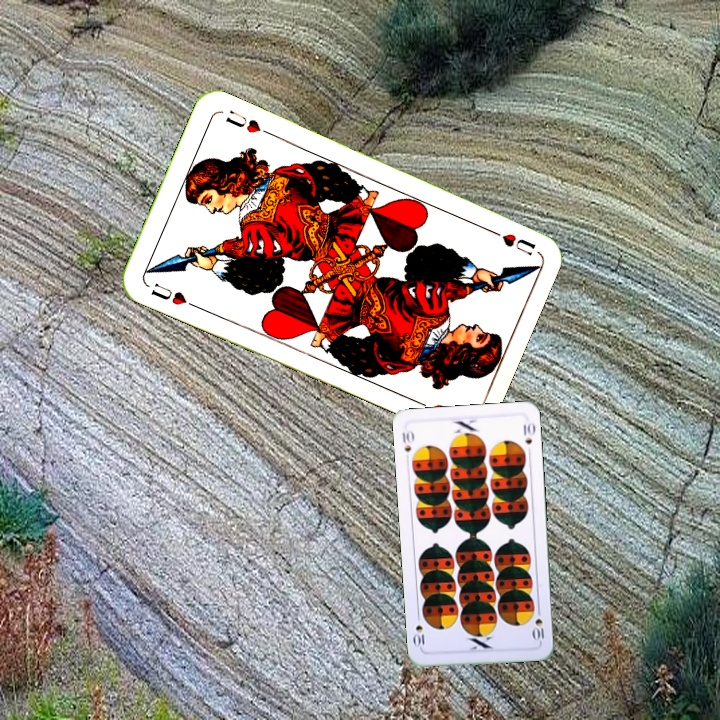HU: (483, 224, 538, 258), (146, 279, 200, 311)
S10: (530, 604, 546, 644), (398, 427, 416, 454)
